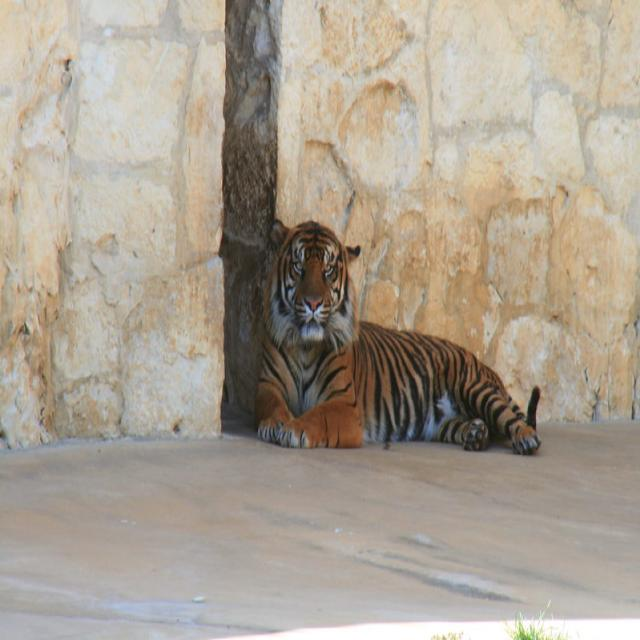Tiger: (253, 214, 542, 466)
